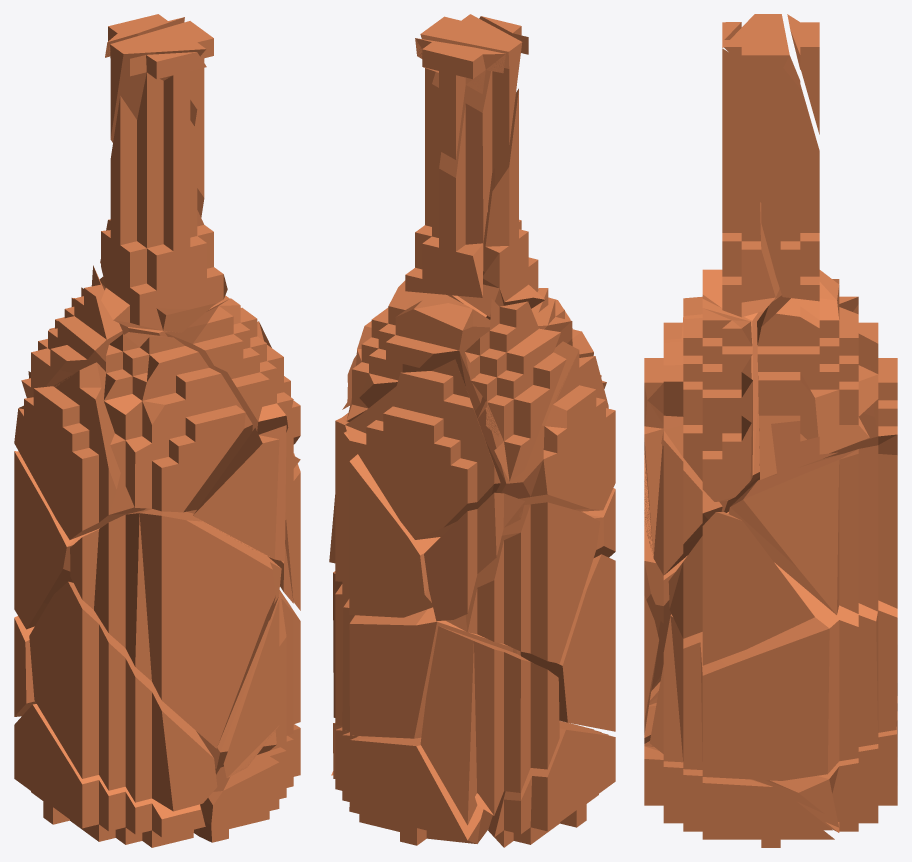
File: BrokenBottle.fbx
3 renders of one model, left to right at view 1: azimuth 30°, elevation 25°; view 2: azimuth 150°, elevation 25°; view 3: azimuth 270°, elevation 25°, orthographic.
Parts seen in each view (by area): view 1: BrokenBottle_cell, BrokenBottle_cell.012, BrokenBottle_cell.033, BrokenBottle_cell.007, BrokenBottle_cell.032, BrokenBottle_cell.004, BrokenBottle_cell.002, BrokenBottle_cell.014, BrokenBottle_cell.006, BrokenBottle_cell.022, BrokenBottle_cell.016, BrokenBottle_cell.015 (+5 smaller); view 2: BrokenBottle_cell.023, BrokenBottle_cell.016, BrokenBottle_cell.001, BrokenBottle_cell.006, BrokenBottle_cell.008, BrokenBottle_cell.032, BrokenBottle_cell.027, BrokenBottle_cell.021, BrokenBottle_cell.015, BrokenBottle_cell.025, BrokenBottle_cell.004, BrokenBottle_cell.033 (+5 smaller); view 3: BrokenBottle_cell.008, BrokenBottle_cell.027, BrokenBottle_cell.016, BrokenBottle_cell.025, BrokenBottle_cell.014, BrokenBottle_cell.003, BrokenBottle_cell.012, BrokenBottle_cell.022, BrokenBottle_cell.002, BrokenBottle_cell.021, BrokenBottle_cell.007, BrokenBottle_cell.001 (+4 smaller).
Boxes of the visible parts, bbox=[...] form: BrokenBottle_cell: bbox=[70, 508, 281, 748]; BrokenBottle_cell.012: bbox=[101, 52, 227, 332]; BrokenBottle_cell.033: bbox=[29, 581, 217, 811]; BrokenBottle_cell.007: bbox=[104, 332, 252, 512]; BrokenBottle_cell.032: bbox=[14, 362, 145, 539]; BrokenBottle_cell.004: bbox=[14, 704, 205, 847]; BrokenBottle_cell.002: bbox=[193, 425, 300, 561]; BrokenBottle_cell.014: bbox=[165, 298, 300, 444]; BrokenBottle_cell.006: bbox=[14, 451, 99, 629]; BrokenBottle_cell.022: bbox=[194, 724, 300, 842]; BrokenBottle_cell.016: bbox=[100, 21, 213, 263]; BrokenBottle_cell.015: bbox=[21, 265, 122, 397]; BrokenBottle_cell.023: bbox=[420, 626, 559, 825]; BrokenBottle_cell.016: bbox=[405, 14, 522, 297]; BrokenBottle_cell.001: bbox=[345, 359, 500, 539]; BrokenBottle_cell.006: bbox=[446, 502, 600, 663]; BrokenBottle_cell.008: bbox=[333, 571, 516, 738]; BrokenBottle_cell.032: bbox=[477, 341, 615, 511]; BrokenBottle_cell.027: bbox=[329, 413, 440, 617]; BrokenBottle_cell.021: bbox=[333, 723, 492, 845]; BrokenBottle_cell.015: bbox=[465, 299, 566, 481]; BrokenBottle_cell.025: bbox=[346, 280, 490, 421]; BrokenBottle_cell.004: bbox=[488, 720, 615, 847]; BrokenBottle_cell.033: bbox=[520, 554, 615, 731]; BrokenBottle_cell.008: bbox=[649, 562, 897, 780]; BrokenBottle_cell.027: bbox=[728, 445, 897, 614]; BrokenBottle_cell.016: bbox=[723, 14, 819, 301]; BrokenBottle_cell.025: bbox=[757, 270, 878, 479]; BrokenBottle_cell.014: bbox=[663, 308, 752, 501]; BrokenBottle_cell.003: bbox=[668, 512, 814, 665]; BrokenBottle_cell.012: bbox=[702, 22, 779, 317]; BrokenBottle_cell.022: bbox=[644, 746, 834, 847]; BrokenBottle_cell.002: bbox=[644, 409, 722, 575]; BrokenBottle_cell.021: bbox=[753, 696, 897, 832]; BrokenBottle_cell.007: bbox=[644, 296, 763, 512]; BrokenBottle_cell.001: bbox=[823, 304, 897, 458].
Bounding box in the file's own units: 7.31 × 24.19 × 7.31.
